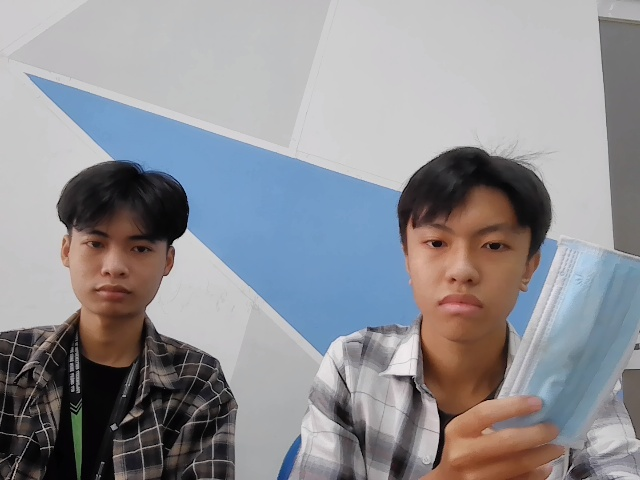human: (394, 146, 540, 339), (58, 152, 190, 323)
mask: (493, 234, 640, 455)
